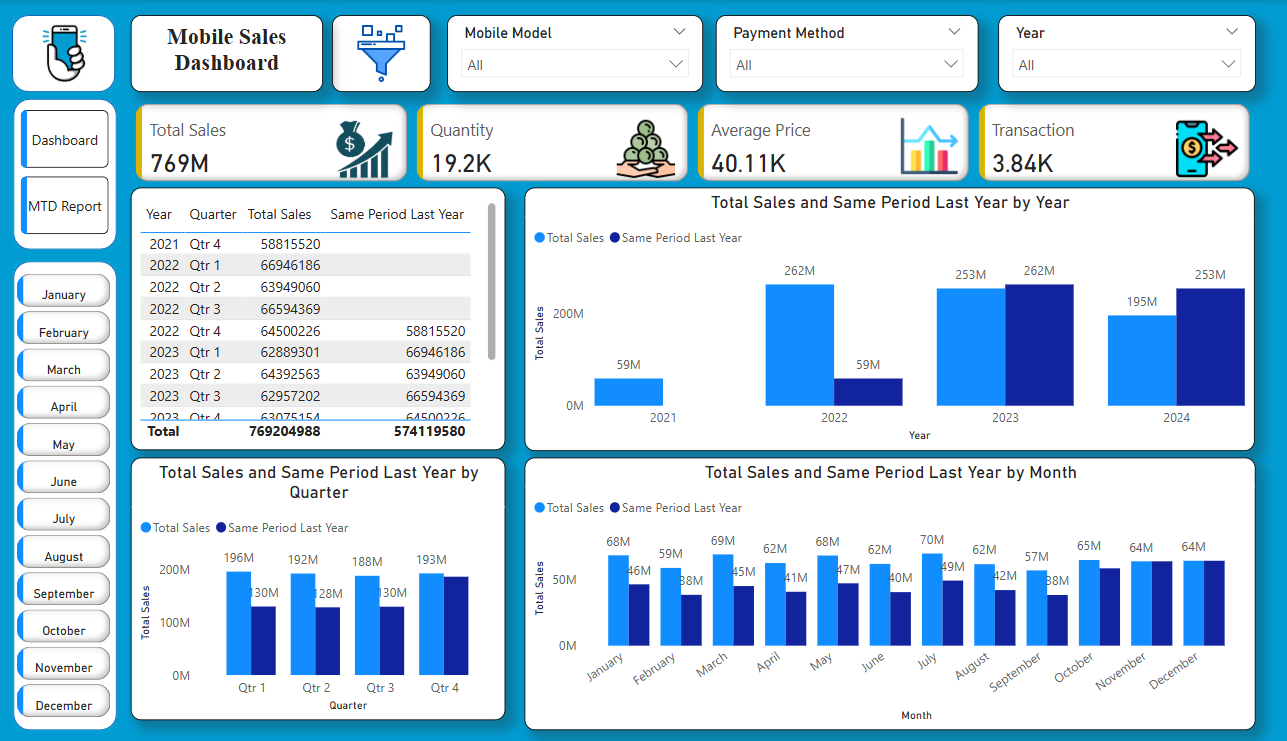

This screenshot's page, from the dashboard's own definition file:
{"tool":"powerbi","page":{"name":"Same Period Last Year","canvas":[1280,720],"ordinal":2},"visuals":[{"type":"shape","box":[14.5,14.5,100.1,74.8],"z":0},{"type":"image","box":[21.7,10.9,86.9,80.8],"z":1000},{"type":"shape","box":[15.7,95.3,100.1,146],"z":2000},{"type":"cardVisual","fields":{"Data":["Mobile_Sales_Data.Total Sales","Mobile_Sales_Data.Quantity","Mobile_Sales_Data.Average Price","Mobile_Sales_Data.Transaction"]},"box":[129.1,95.3,1087,85.7],"z":3000},{"type":"slicer","fields":{"Values":["Mobile_Sales_Data.Mobile Model"]},"box":[434.3,14.5,247.3,74.8],"z":4000},{"type":"slicer","fields":{"Values":["Mobile_Sales_Data.Payment Method"]},"box":[693.7,14.5,253.4,74.8],"z":5000},{"type":"slicer","fields":{"Values":["Custom_Calender.Date.Variation.Date Hierarchy.Year"]},"box":[966.4,14.5,248.5,74.8],"z":6000},{"type":"image","box":[323.3,14.5,95.3,74.8],"z":7000},{"type":"textbox","box":[129.1,14.5,185.8,74.8],"z":8000},{"type":"shape","box":[15.7,252.1,100.1,452.4],"z":9000},{"type":"advancedSlicerVisual","fields":{"Values":["Custom_Calender.Date.Variation.Date Hierarchy.Month"]},"box":[14.5,259.4,100.1,440.4],"z":10000},{"type":"tableEx","fields":{"Values":["Custom_Calender.Date.Variation.Date Hierarchy.Year","Custom_Calender.Date.Variation.Date Hierarchy.Quarter","Mobile_Sales_Data.Total Sales","Mobile_Sales_Data.Same Period Last Year"]},"box":[129.1,181,361.9,253.4],"z":11000},{"type":"clusteredColumnChart","fields":{"Category":["Custom_Calender.Date.Variation.Date Hierarchy.Year"],"Y":["Mobile_Sales_Data.Total Sales","Mobile_Sales_Data.Same Period Last Year"]},"box":[509.2,180.7,704.6,254.1],"z":12000},{"type":"clusteredColumnChart","fields":{"Category":["Custom_Calender.Date.Variation.Date Hierarchy.Quarter"],"Y":["Mobile_Sales_Data.Total Sales","Mobile_Sales_Data.Same Period Last Year"]},"box":[129.1,441.6,361.9,253.4],"z":13000},{"type":"clusteredColumnChart","fields":{"Category":["Custom_Calender.Date.Variation.Date Hierarchy.Month"],"Y":["Mobile_Sales_Data.Total Sales","Mobile_Sales_Data.Same Period Last Year"]},"box":[509.1,441.6,705.8,263],"z":14000},{"type":"pageNavigator","box":[22.9,106.2,85.7,121.9],"z":15000}]}

Visuals, with their boxes in screenshot pixels (x1, y1, x2, y2), scaled from the page's 1280x720 canvas onto the 1287x741 screenshot:
shape: (15, 15, 115, 92)
image: (22, 11, 109, 94)
shape: (16, 98, 116, 248)
cardVisual - Mobile_Sales_Data.Total Sales x Mobile_Sales_Data.Quantity: (130, 98, 1223, 186)
slicer - Mobile_Sales_Data.Mobile Model: (437, 15, 685, 92)
slicer - Mobile_Sales_Data.Payment Method: (697, 15, 952, 92)
slicer - Custom_Calender.Date.Variation.Date Hierarchy.Year: (972, 15, 1222, 92)
image: (325, 15, 421, 92)
textbox: (130, 15, 317, 92)
shape: (16, 259, 116, 725)
advancedSlicerVisual - Custom_Calender.Date.Variation.Date Hierarchy.Month: (15, 267, 115, 720)
tableEx - Custom_Calender.Date.Variation.Date Hierarchy.Year x Custom_Calender.Date.Variation.Date Hierarchy.Quarter: (130, 186, 494, 447)
clusteredColumnChart - Custom_Calender.Date.Variation.Date Hierarchy.Year x Mobile_Sales_Data.Total Sales: (512, 186, 1220, 447)
clusteredColumnChart - Custom_Calender.Date.Variation.Date Hierarchy.Quarter x Mobile_Sales_Data.Total Sales: (130, 454, 494, 715)
clusteredColumnChart - Custom_Calender.Date.Variation.Date Hierarchy.Month x Mobile_Sales_Data.Total Sales: (512, 454, 1222, 725)
pageNavigator: (23, 109, 109, 235)
